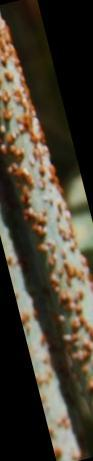Wheat: (0, 11, 93, 459)
